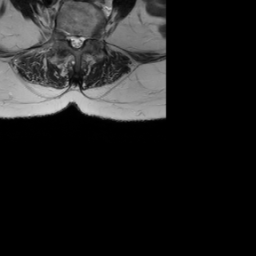CCS_stenosis: (74, 28, 79, 53)
LFS_severe_stenosis: (86, 28, 91, 46)
LLS_normal: (79, 28, 85, 49)
RFS_stenosis: (62, 25, 69, 46)
RLS_normal: (68, 29, 74, 49)
